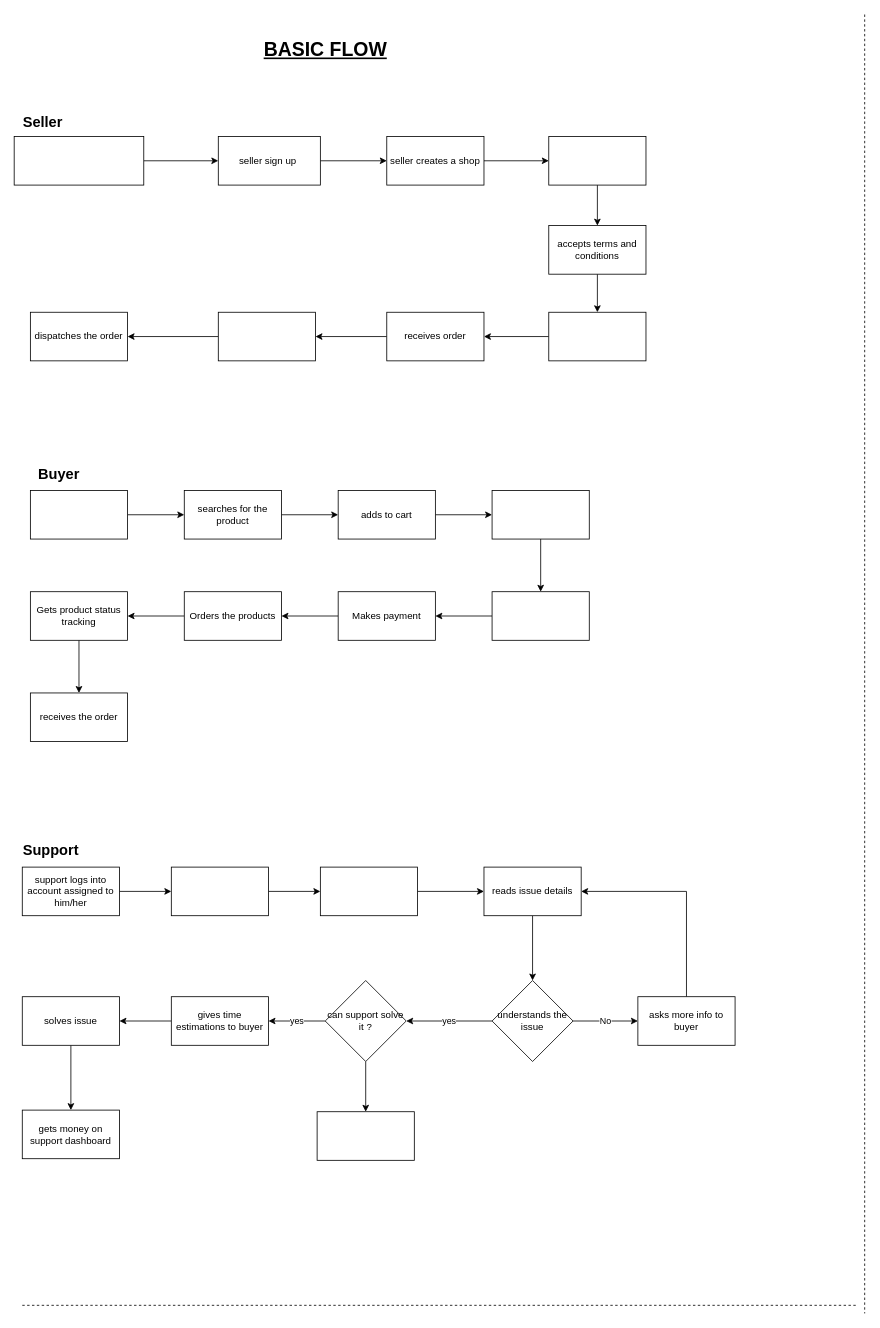
Some shapes in this 880 by 1328 pixel diagram are drawn without their labels. Here are the shapes that lost their labels. From the top down, the centre of each, then its label:
(x=78, y=160): Seller installs/opens seller app
(x=597, y=160): Adds inventory
(x=266, y=336): prepares the order
(x=597, y=336): publishes the shop
(x=79, y=514): buyer open app/website
(x=540, y=514): Adds address
(x=540, y=615): Adds payment method
(x=220, y=891): support gets ticket notification
(x=369, y=891): support opens ticket
(x=365, y=1135): assigns to senior support
